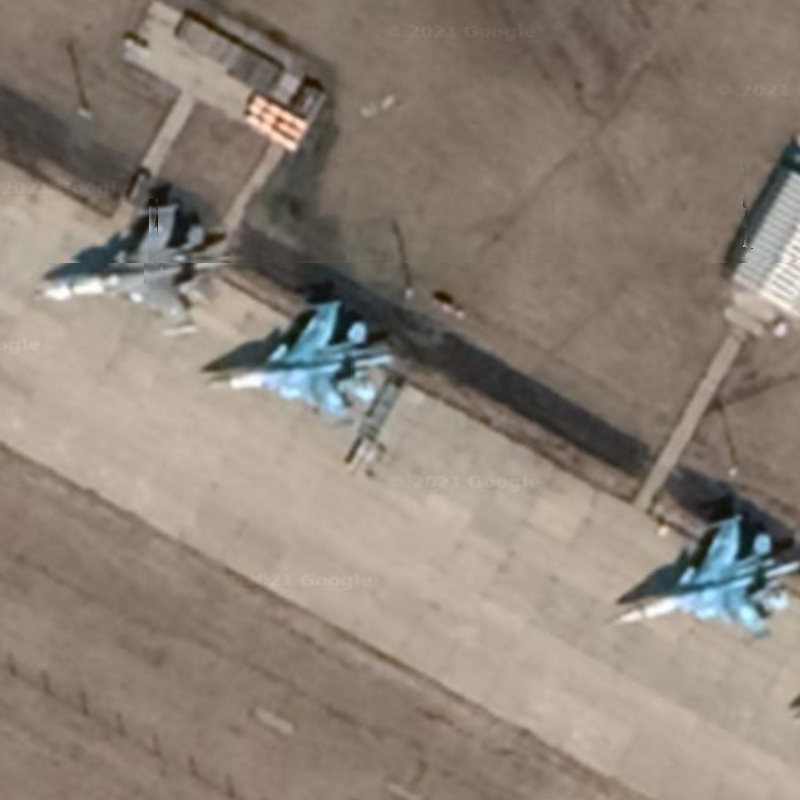A19: (31, 198, 226, 341), (608, 509, 800, 650), (201, 295, 395, 434)
